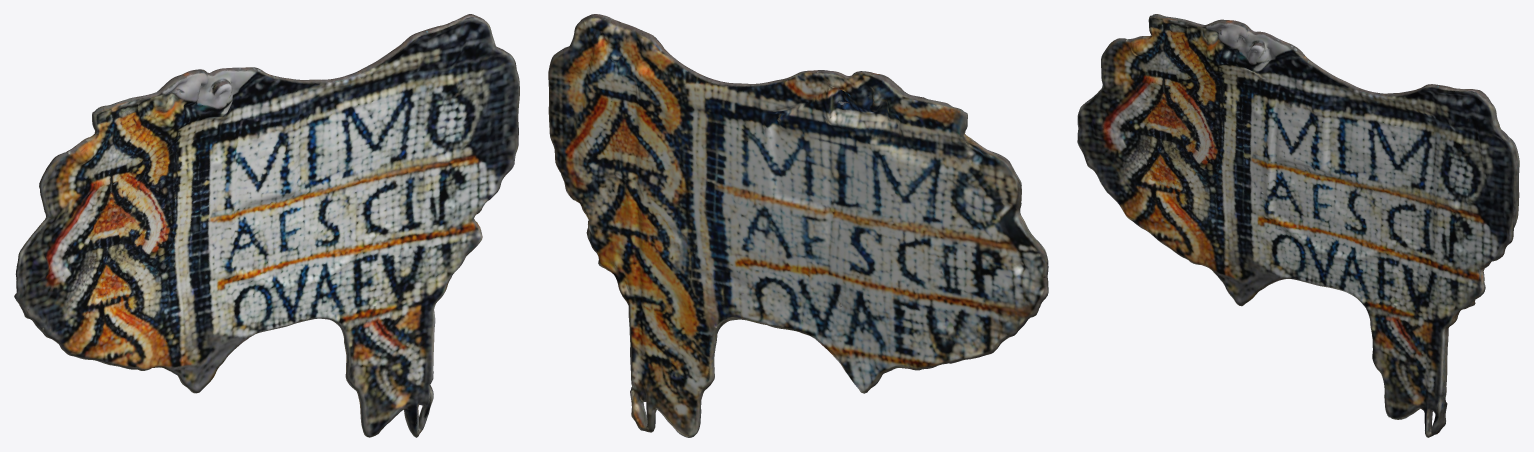
The model's file is primary.glb.
The picture shows the model from 3 angles, left to right: view 1: azimuth 30°, elevation 25°; view 2: azimuth 150°, elevation 25°; view 3: azimuth 330°, elevation 25°; orthographic projection. The views are drawn at different scales.
Bounding box in the file's own units: 2 × 1.59 × 0.0713.
Materials: 1 (1 with a texture image).
